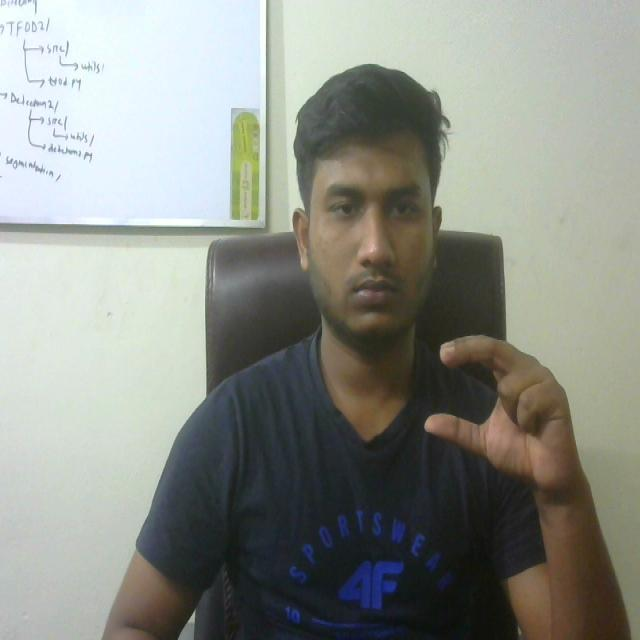No: (409, 320, 591, 521)
